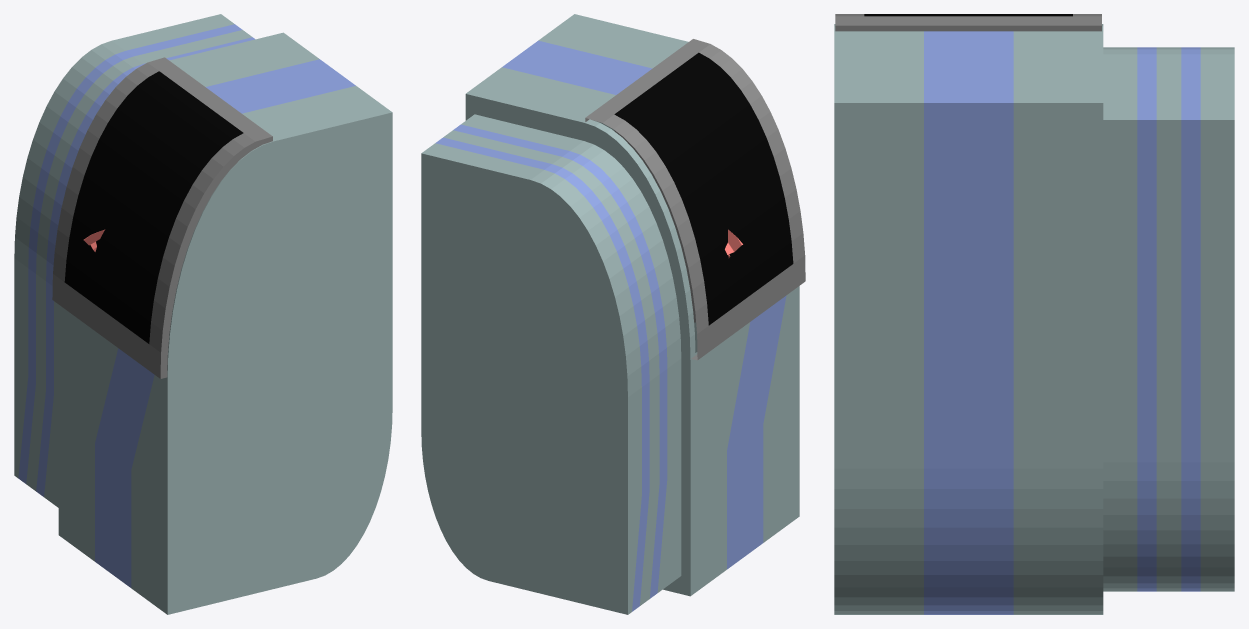
3 views of the same model, side by side, from view 1: azimuth 30°, elevation 25°; view 2: azimuth 150°, elevation 25°; view 3: azimuth 270°, elevation 25° (orthographic). The views are drawn at different scales.
Visible parts, largest first — view 1: C5DFD9FF, 8B8B8BFF.001, 90A6E7FF, 8B8B8BFF; view 2: C5DFD9FF, 8B8B8BFF.001, 90A6E7FF, 8B8B8BFF; view 3: C5DFD9FF, 90A6E7FF, 8B8B8BFF, 8B8B8BFF.001.
Part boxes in pixels (x1,y1,x2,y2): C5DFD9FF: (14, 14, 392, 614); 8B8B8BFF.001: (64, 71, 243, 343); 90A6E7FF: (18, 24, 355, 587); 8B8B8BFF: (52, 57, 272, 378); C5DFD9FF: (421, 14, 799, 614); 8B8B8BFF.001: (614, 52, 793, 325); 90A6E7FF: (435, 40, 786, 611); 8B8B8BFF: (585, 39, 805, 360); C5DFD9FF: (834, 24, 1234, 614); 90A6E7FF: (924, 31, 1200, 614); 8B8B8BFF: (835, 14, 1101, 31); 8B8B8BFF.001: (864, 14, 1072, 16).
Size of the model in its own units: 3.78 by 6.83 by 4.44.
